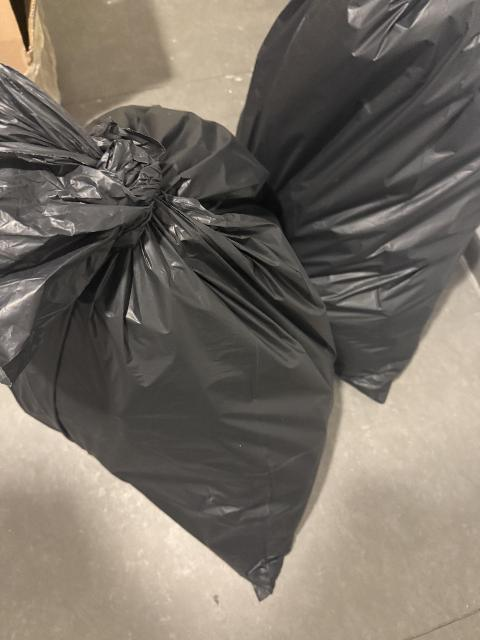Plastik: (0, 68, 328, 585), (238, 0, 480, 400)
